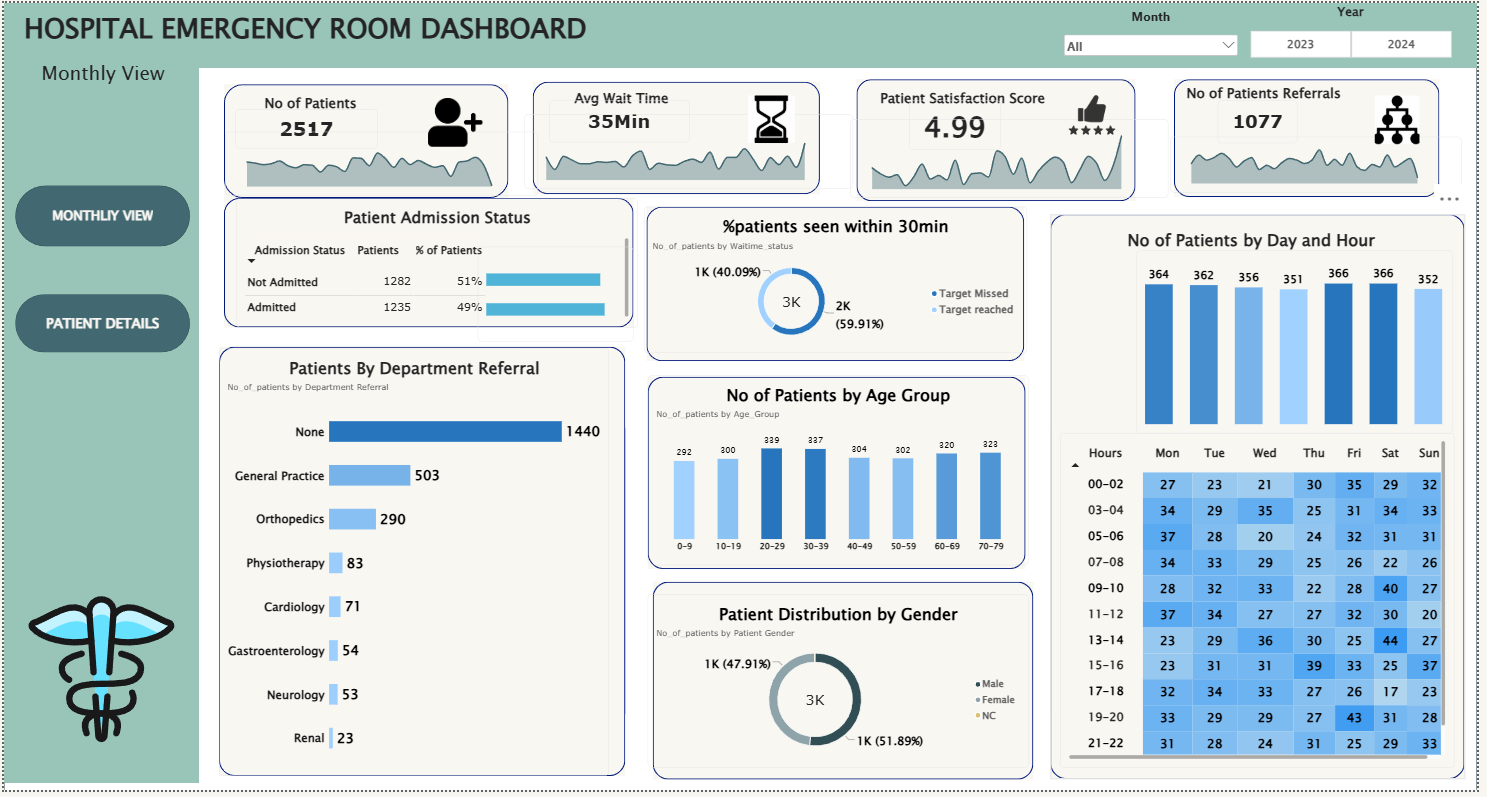

What the dashboard file says about the page in this screenshot:
{"tool":"powerbi","page":{"name":"Monthly View","canvas":[2900,1550],"ordinal":0},"visuals":[{"type":"shape","box":[0,0,2900,1551.6],"z":0},{"type":"shape","box":[1679.5,149.3,549.3,240],"z":0,"group":"g3"},{"type":"shape","box":[2304,149.3,522.7,232],"z":0,"group":"g4"},{"type":"shape","box":[1040,155.3,565.3,221.3],"z":0,"group":"g2"},{"type":"shape","box":[432,160,560,224],"z":0,"group":"g5"},{"type":"shape","box":[1265.9,400,743.7,304],"z":0,"group":"g8"},{"type":"shape","box":[2061.3,416,816,1112],"z":0,"group":"g11"},{"type":"shape","box":[1267,736.3,744,378.7],"z":0,"group":"g9"},{"type":"shape","box":[1277.4,1138.7,749.3,389.3],"z":0,"group":"g10"},{"type":"shape","box":[0,0,384,1536],"z":1000},{"type":"textbox","box":[2329.2,156.4,368,58.7],"z":1000,"group":"g4"},{"type":"textbox","box":[1651.6,167.1,472,58.7],"z":1000,"group":"g3"},{"type":"textbox","box":[1116.3,167.4,354.8,77.4],"z":1000,"group":"g2"},{"type":"textbox","box":[490.1,177,222.6,45.2],"z":1000,"group":"g5"},{"type":"pivotTable","title":"Patient Admission Status","fields":{"Rows":["Hospital ER_Data.Patient Admission Status"],"Values":["dax.No_of_patients1","dax.No_of_patients"]},"box":[458.9,383,790.3,254.8],"z":1000,"group":"g1"},{"type":"clusteredBarChart","title":"Patients By Department Referral","fields":{"Category":["Hospital ER_Data.Department Referral"],"Y":["dax.No_of_patients"]},"box":[422.6,680.1,768,842.7],"z":1000,"group":"g6"},{"type":"clusteredColumnChart","title":"No of Patients by Age Group","fields":{"Category":["Hospital ER_Data.Age_Group"],"Y":["dax.No_of_patients"]},"box":[1266.7,733.3,749.3,373.3],"z":1000,"group":"g7"},{"type":"card","fields":{"Values":["dax.Satisfaction_score"]},"box":[1782.1,190.2,180.6,96.8],"z":2000,"group":"g3"},{"type":"card","fields":{"Values":["dax.Patients_referred"]},"box":[2390.5,191.1,157.1,84],"z":2000,"group":"g4"},{"type":"card","fields":{"Values":["dax.Avg_Wait_time"]},"box":[1071.1,193.2,277.3,82.7],"z":2000,"group":"g2"},{"type":"card","fields":{"Values":["dax.No_of_patients"]},"box":[454.6,208.4,280,77.3],"z":2000,"group":"g5"},{"type":"shape","box":[432.3,383.9,806.5,254.8],"z":2000},{"type":"barChart","fields":{"Category":["Hospital ER_Data.Patient Admission Status"],"Y":["dax.No_of_patients"]},"box":[935,479.7,306.7,186.7],"z":2000,"group":"g1"},{"type":"shape","box":[422.6,677.4,800,845.3],"z":2000,"group":"g12"},{"type":"shape","box":[384,0,2624,128],"z":3000},{"type":"areaChart","fields":{"Category":["Date_table.Date.Variation.Date Hierarchy.Day"],"Y":["Avg(Hospital ER_Data.Patient Waittime)"]},"box":[1023.1,218.6,648,146.7],"z":3000,"group":"g2"},{"type":"areaChart","fields":{"Category":["Date_table.Date.Variation.Date Hierarchy.Day"],"Y":["Avg(Hospital ER_Data.Patient Satisfaction Score)"]},"box":[1666.1,228.4,626.7,154.7],"z":3000,"group":"g3"},{"type":"areaChart","fields":{"Category":["Date_table.Date.Variation.Date Hierarchy.Day"],"Y":["dax.No_of_patients"]},"box":[434.1,253.2,616,125.3],"z":3000,"group":"g5"},{"type":"areaChart","fields":{"Category":["Date_table.Date.Variation.Date Hierarchy.Day"],"Y":["dax.Patients_referred"]},"box":[2296.9,263.1,573.3,109.3],"z":3000,"group":"g4"},{"type":"textbox","box":[38.7,9.7,1625.8,100],"z":4000},{"type":"slicer","title":"Month","fields":{"Values":["Date_table.Month"]},"box":[2082.7,10.7,352,128],"z":5000},{"type":"group","id":"g1","title":"Group 1","box":[458.9,383,790.3,283.4],"z":6000},{"type":"group","id":"g2","title":"Group 3","box":[1023.1,155.3,648,221.3],"z":7000},{"type":"group","id":"g3","title":"Group 4","box":[1651.6,149.3,641.2,240],"z":8000},{"type":"group","id":"g4","title":"Group 5","box":[2296.9,149.3,573.3,232],"z":9000},{"type":"group","id":"g5","title":"Group 2","box":[432,160,618.1,224],"z":10000},{"type":"slicer","title":"Year","fields":{"Values":["Date_table.year"]},"box":[2434.7,0,434.7,109.3],"z":11000},{"type":"group","id":"g6","title":"Group 6","box":[422.6,680.1,768,842.7],"z":11000,"group":"g12"},{"type":"group","id":"g7","title":"Group 7","box":[1266.7,733.3,749.3,373.3],"z":11000,"group":"g9"},{"type":"image","box":[824,186.7,128,96],"z":12000},{"type":"image","box":[2082.7,173.3,120,96],"z":13000},{"type":"donutChart","title":"%patients seen within 30min","fields":{"Category":["Hospital ER_Data.Waitime_status"],"Y":["dax.No_of_patients"]},"box":[1261.3,400.3,754.7,288],"z":13000,"group":"g8"},{"type":"image","box":[1450.7,181.3,122.7,93.3],"z":14000},{"type":"image","box":[2696,181.3,96,96],"z":15000},{"type":"textbox","box":[32.3,109.7,383.9,64.5],"z":16000},{"type":"donutChart","title":"Patient Distribution by Gender","fields":{"Category":["Hospital ER_Data.Patient Gender"],"Y":["dax.No_of_patients"]},"box":[1266.7,1162.7,749.3,341.3],"z":16000,"group":"g10"},{"type":"group","id":"g8","title":"Group 8","box":[1261.3,400,754.7,304],"z":17000},{"type":"group","id":"g9","title":"Group 9","box":[1266.7,733.3,749.3,381.3],"z":18000},{"type":"pivotTable","fields":{"Columns":["Date_table.Day_Name"],"Rows":["Hospital ER_Data.Waitime_Interval"],"Values":["dax.No_of_patients"]},"box":[2080.2,846.6,775.6,659.6],"z":19000,"group":"g11"},{"type":"group","id":"g10","title":"Group 10","box":[1266.7,1138.7,760,389.3],"z":19000},{"type":"group","id":"g11","title":"Group 11","box":[2061.3,416,816,1112],"z":20000},{"type":"columnChart","title":"No of Patients by Day and Hour","fields":{"Category":["Date_table.Day_Name"],"Y":["dax.No_of_patients"]},"box":[2231,486.9,622.1,359.8],"z":20000,"group":"g11"},{"type":"group","id":"g12","title":"Group 12","box":[422.6,677.4,800,845.2],"z":21000},{"type":"shape","box":[21.3,360,344,120],"z":22000},{"type":"shape","box":[21.3,573.3,344,114.7],"z":23000},{"type":"image","box":[41.9,1161.3,300,300],"z":23002},{"type":"textbox","box":[2061.3,443.3,791.8,70.9],"z":27002,"group":"g11"}]}

Visuals, with their boxes in screenshot pixels (x1, y1, x2, y2), scaled from the page's 2900x1550 canvas onto the 1487x797 screenshot:
shape: 0,0,1486,796
shape: 861,77,1143,200
shape: 1181,77,1449,196
shape: 533,80,823,194
shape: 222,82,509,197
shape: 649,206,1030,362
shape: 1057,214,1475,786
shape: 650,379,1031,573
shape: 655,586,1039,786
shape: 0,0,197,790
textbox: 1194,80,1383,111
textbox: 847,86,1089,116
textbox: 572,86,754,126
textbox: 251,91,365,114
"Patient Admission Status" pivotTable: 235,197,641,328
"Patients By Department Referral" clusteredBarChart: 217,350,610,783
"No of Patients by Age Group" clusteredColumnChart: 650,377,1034,569
card - dax.Satisfaction_score: 914,98,1006,148
card - dax.Patients_referred: 1226,98,1306,141
card - dax.Avg_Wait_time: 549,99,691,142
card - dax.No_of_patients: 233,107,377,147
shape: 222,197,635,328
barChart - Hospital ER_Data.Patient Admission Status x dax.No_of_patients: 479,247,637,343
shape: 217,348,627,783
shape: 197,0,1486,66
areaChart - Date_table.Date.Variation.Date Hierarchy.Day x Avg(Hospital ER_Data.Patient Waittime): 525,112,857,188
areaChart - Date_table.Date.Variation.Date Hierarchy.Day x Avg(Hospital ER_Data.Patient Satisfaction Score): 854,117,1176,197
areaChart - Date_table.Date.Variation.Date Hierarchy.Day x dax.No_of_patients: 223,130,538,195
areaChart - Date_table.Date.Variation.Date Hierarchy.Day x dax.Patients_referred: 1178,135,1472,191
textbox: 20,5,853,56
"Month" slicer: 1068,6,1248,71
"Group 1" group: 235,197,641,343
"Group 3" group: 525,80,857,194
"Group 4" group: 847,77,1176,200
"Group 5" group: 1178,77,1472,196
"Group 2" group: 222,82,538,197
"Year" slicer: 1248,0,1471,56
"Group 6" group: 217,350,610,783
"Group 7" group: 650,377,1034,569
image: 423,96,488,145
image: 1068,89,1129,138
"%patients seen within 30min" donutChart: 647,206,1034,354
image: 744,93,807,141
image: 1382,93,1432,143
textbox: 17,56,213,90
"Patient Distribution by Gender" donutChart: 650,598,1034,773
"Group 8" group: 647,206,1034,362
"Group 9" group: 650,377,1034,573
pivotTable - Date_table.Day_Name x Hospital ER_Data.Waitime_Interval: 1067,435,1464,774
"Group 10" group: 650,586,1039,786
"Group 11" group: 1057,214,1475,786
"No of Patients by Day and Hour" columnChart: 1144,250,1463,435
"Group 12" group: 217,348,627,783
shape: 11,185,187,247
shape: 11,295,187,354
image: 21,597,175,751
textbox: 1057,228,1463,264
